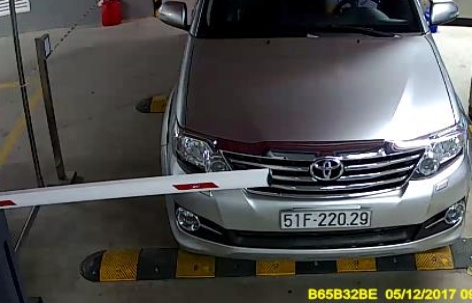plate: (276, 204, 378, 236)
